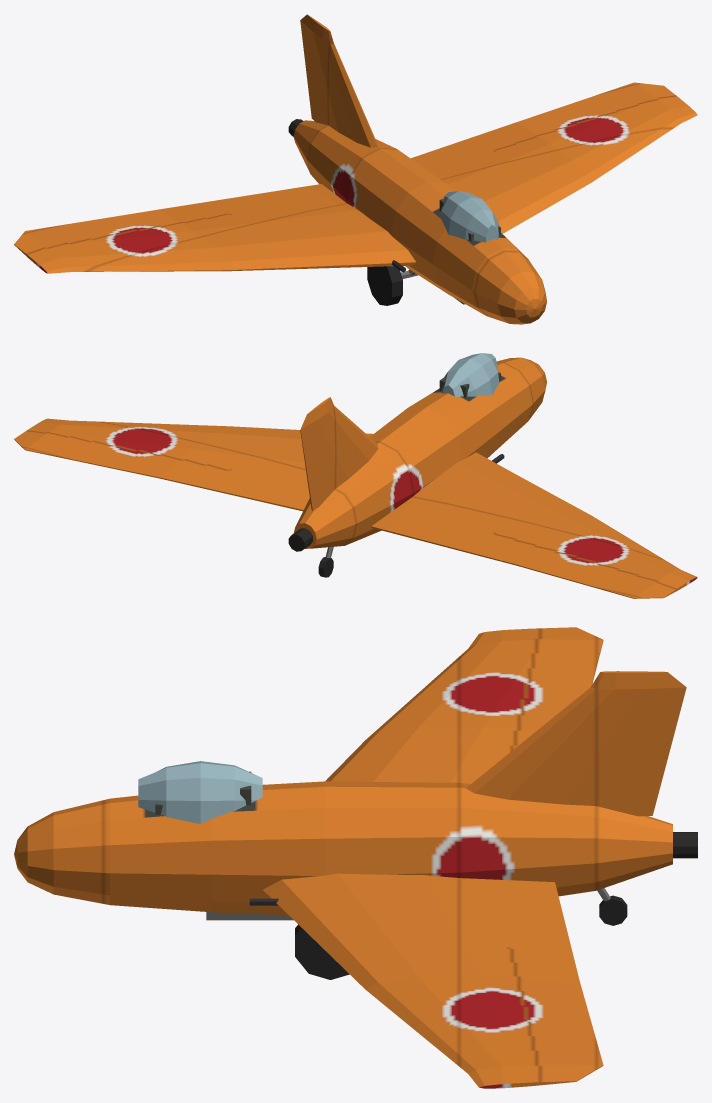
3 renders of one model, top to bottom at view 1: azimuth 30°, elevation 25°; view 2: azimuth 150°, elevation 25°; view 3: azimuth 270°, elevation 25°, orthographic. The views are drawn at different scales.
Visible parts, largest first — view 1: wing, fuselage, tail, canopy, $dolly; view 2: wing, fuselage, tail, canopy; view 3: wing, fuselage, tail, canopy, $dolly.
Boxes of the visible parts, box(x1,y1,x2,y2) form: wing: box(14, 82, 697, 273); fuselage: box(288, 119, 546, 324); tail: box(300, 14, 378, 147); canopy: box(440, 191, 498, 242); $dolly: box(367, 266, 417, 305); wing: box(14, 418, 697, 598); fuselage: box(288, 357, 546, 577); tail: box(300, 397, 378, 510); canopy: box(441, 353, 499, 396); wing: box(249, 627, 603, 1088); fuselage: box(14, 771, 697, 925); tail: box(466, 671, 686, 816); canopy: box(138, 761, 262, 823); $dolly: box(295, 924, 349, 979).
Bounding box in the file's own units: 9.5 × 2.7 × 6.05.
1 material, 1 textured.
